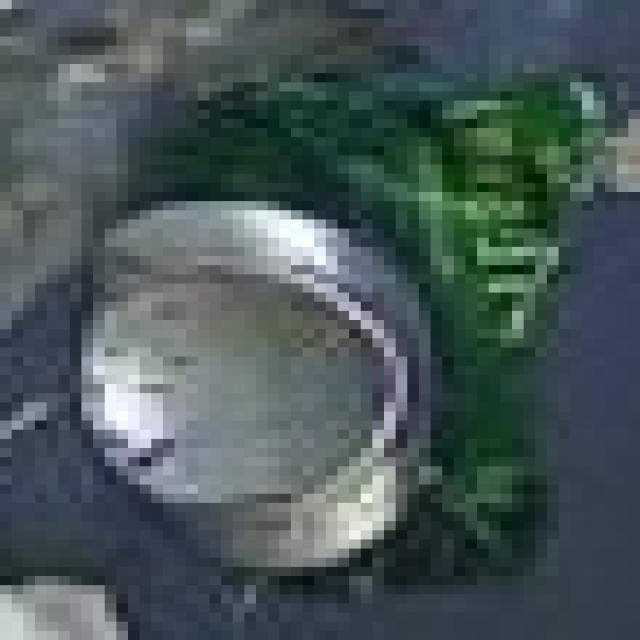litter: (46, 33, 640, 599)
